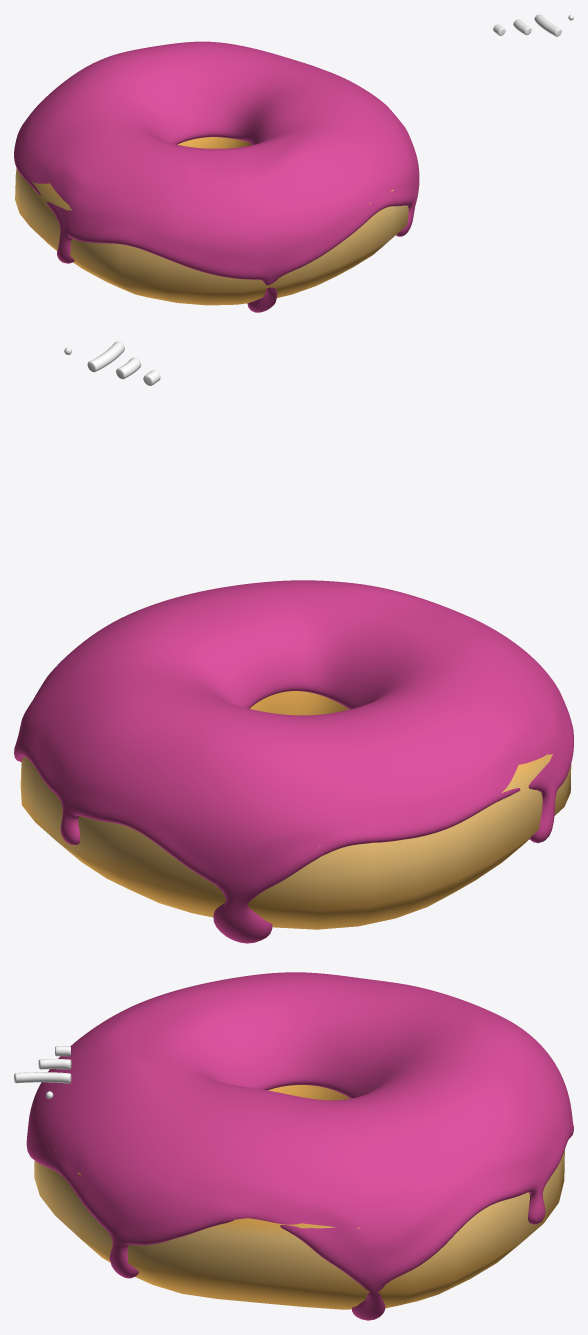
Rendered from Donut.glb.
3 renders of one model, top to bottom at view 1: azimuth 30°, elevation 25°; view 2: azimuth 150°, elevation 25°; view 3: azimuth 270°, elevation 25°, orthographic. The views are drawn at different scales.
Parts seen in each view (by area): view 1: icinggg.001, donuttt.001; view 2: icinggg.001, donuttt.001; view 3: icinggg.001, donuttt.001, large sprinkle.
Boxes of the visible parts, left/top/right/bottom form: icinggg.001: left=14, top=41, right=419, bottom=312; donuttt.001: left=15, top=137, right=408, bottom=305; icinggg.001: left=14, top=580, right=573, bottom=943; donuttt.001: left=20, top=691, right=571, bottom=929; icinggg.001: left=26, top=972, right=573, bottom=1320; donuttt.001: left=34, top=1085, right=564, bottom=1309; large sprinkle: left=14, top=1072, right=71, bottom=1083.
Bounding box in the file's own units: 0.1684 × 0.0891 × 0.1392.
3 materials, 1 textured.
